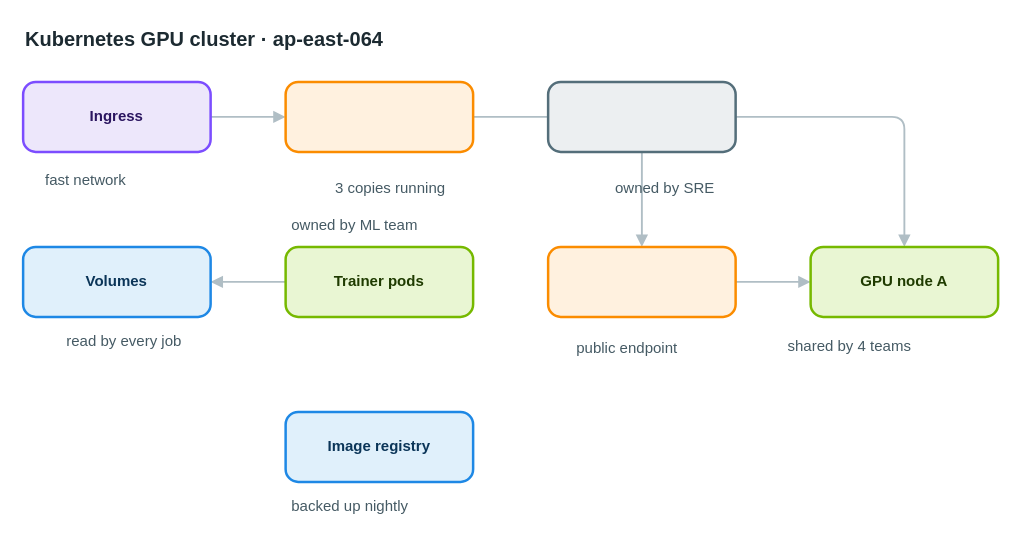
This 1020x538 diagram has some shape labels left out. The shapes that lost their labels are listed below. From the top down, each one's box as (x1, y1, x2, y2) in pixels, then its label:
(284, 80, 474, 152): API service
(546, 80, 736, 152): GPU operator
(546, 245, 736, 318): Inference pods
